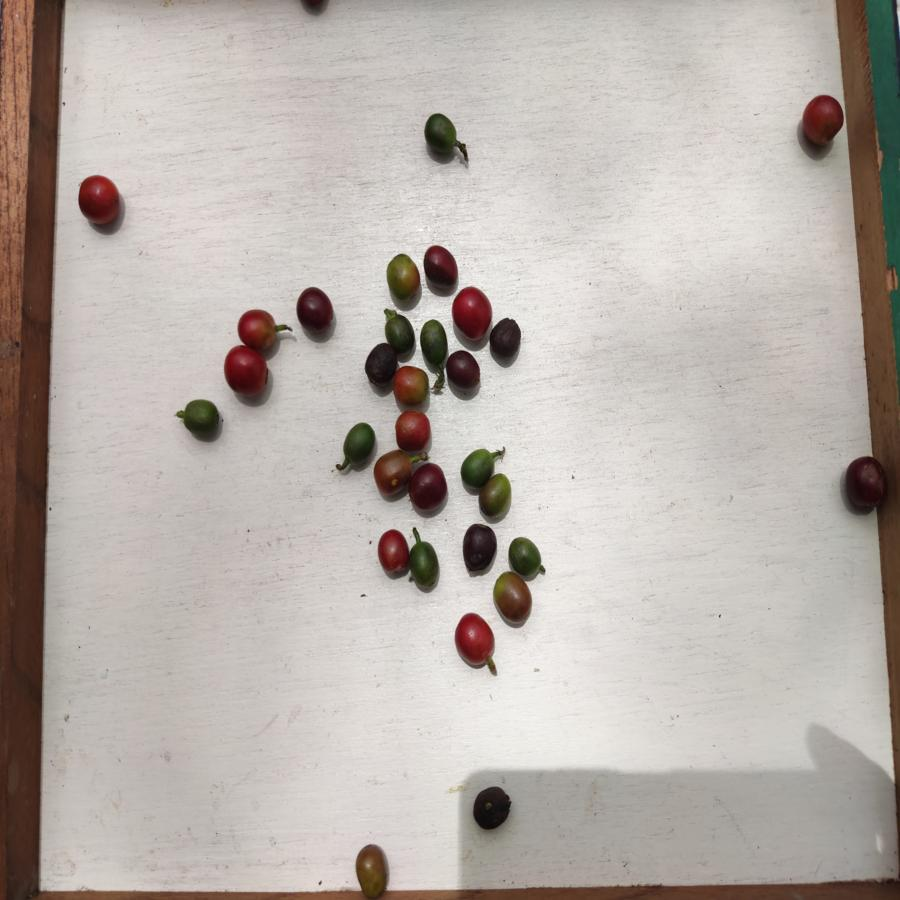Inmaduro: (423, 111, 460, 162), (407, 539, 441, 590), (506, 536, 543, 578), (341, 423, 375, 468), (183, 398, 221, 436), (460, 447, 493, 487), (421, 318, 448, 364), (387, 315, 415, 357)
Maduro: (452, 612, 496, 671), (801, 94, 845, 150), (223, 347, 271, 398), (78, 173, 121, 228), (451, 286, 493, 338), (236, 310, 279, 350), (377, 529, 410, 577), (395, 410, 431, 452)
Pinton: (491, 572, 532, 623), (354, 843, 389, 900), (383, 251, 420, 302), (372, 451, 408, 498), (481, 472, 513, 521), (392, 367, 429, 405)
Sobremaduro: (843, 455, 890, 514), (293, 287, 335, 334), (472, 785, 513, 830), (409, 463, 448, 509), (461, 524, 497, 573), (422, 246, 459, 291), (444, 349, 481, 387), (364, 343, 395, 388), (490, 318, 523, 359)
